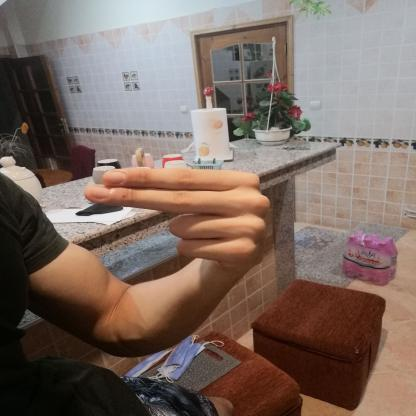AYN: (70, 153, 287, 285)
